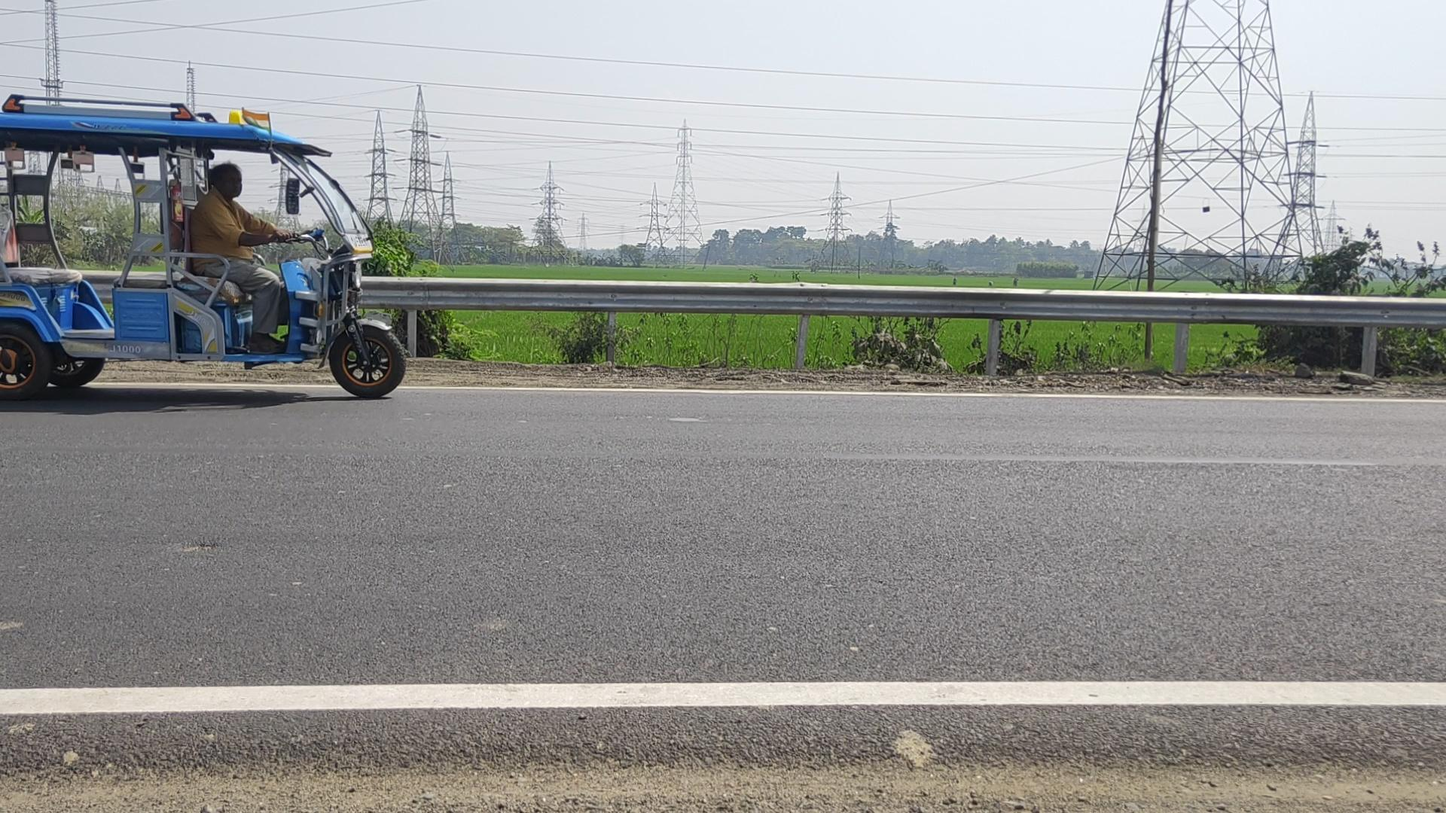Auto: (1, 93, 407, 404)
